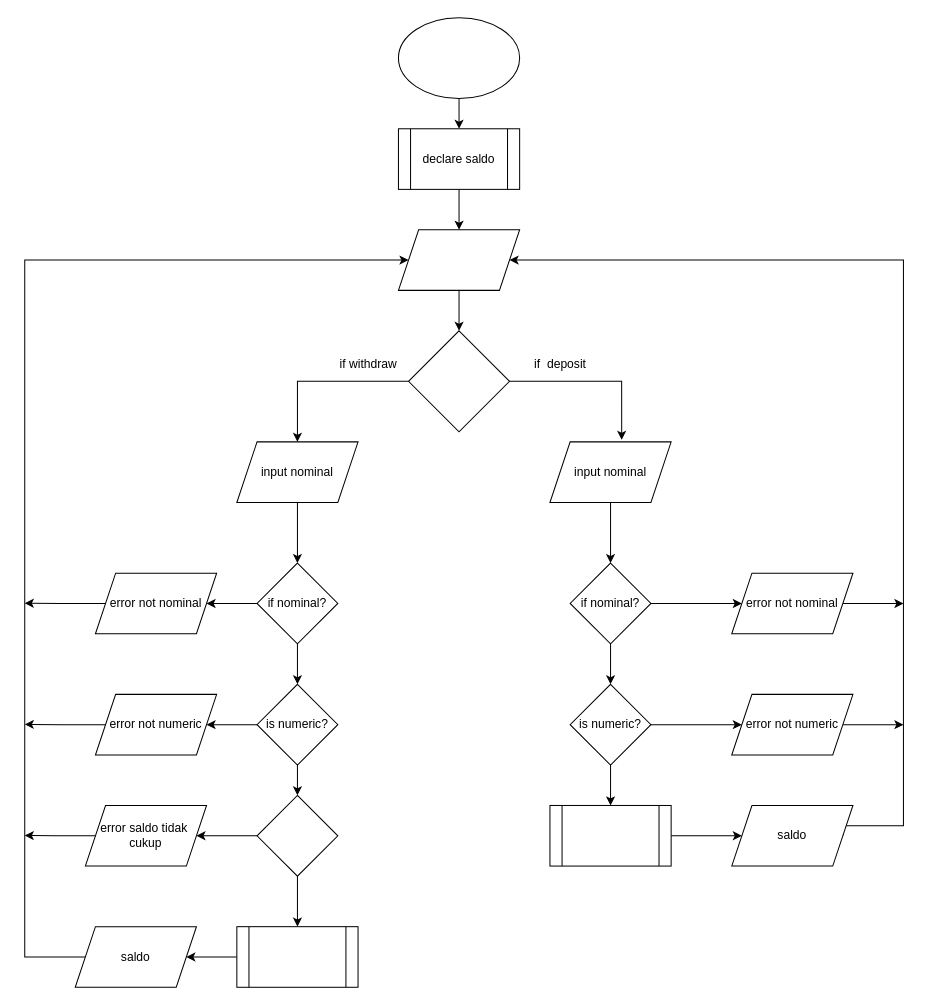
The diagram is 929 pixels wide and 1005 high, and some of its shapes have lost their labels. Here are the shapes that lost their labels. From the top down, the box of each, then its label:
(397, 17, 520, 98): start
(397, 229, 520, 290): input choice
(408, 330, 510, 432): wd / dp
(256, 794, 338, 876): nominal < saldo
(549, 804, 671, 866): saldo = + nominal
(236, 926, 358, 987): saldo = - nominal
